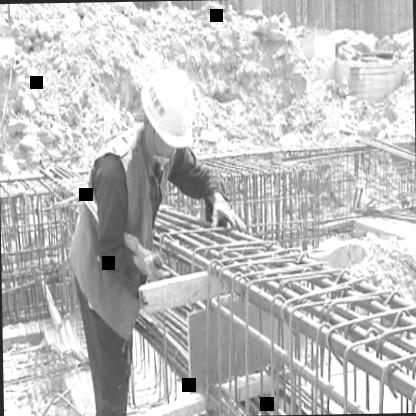helmet: (134, 64, 200, 162)
